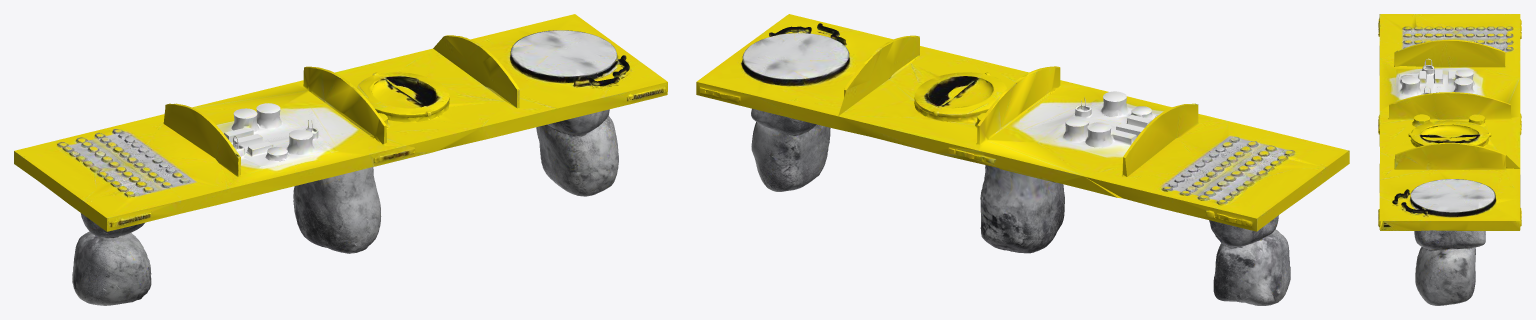
The model's file is table.glb.
3 views of the same model, side by side, from view 1: azimuth 30°, elevation 25°; view 2: azimuth 150°, elevation 25°; view 3: azimuth 270°, elevation 25° (orthographic). The views are drawn at different scales.
Visible parts, largest first — view 1: Mesh_0; view 2: Mesh_0; view 3: Mesh_0.
Part boxes in pixels (<box>): Mesh_0: <box>14,14,667,305</box>; Mesh_0: <box>696,14,1349,305</box>; Mesh_0: <box>1378,14,1521,305</box>.
Bounding box in the file's own units: 4.37 × 1.21 × 1.28.
1 material, 1 textured.
